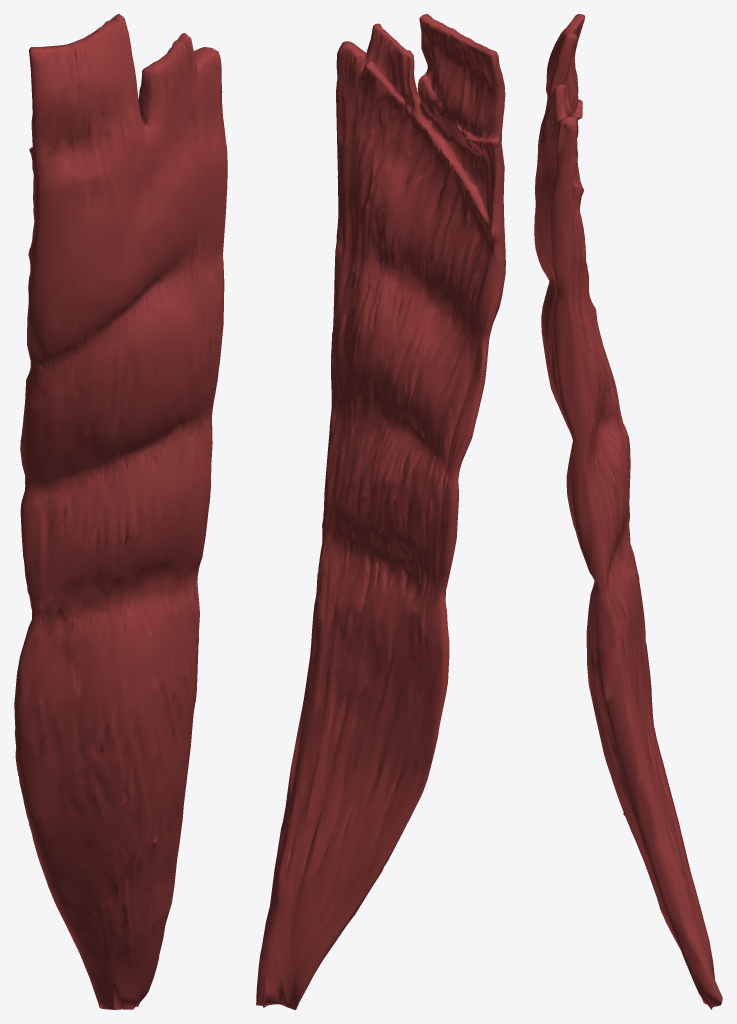
Rendered from rectus-abdominis-muscle-r.glb.
3 renders of one model, left to right at view 1: azimuth 30°, elevation 25°; view 2: azimuth 150°, elevation 25°; view 3: azimuth 270°, elevation 25°, orthographic. The views are drawn at different scales.
Visible parts, largest first — view 1: Rectus abdominis muscle.r; view 2: Rectus abdominis muscle.r; view 3: Rectus abdominis muscle.r.
Boxes of the visible parts, x1,y1,x2,y2 form: Rectus abdominis muscle.r: (14,14,227,1009); Rectus abdominis muscle.r: (256,14,505,1009); Rectus abdominis muscle.r: (534,14,722,1009).
Size of the model in its own units: 0.0786 by 0.4085 by 0.0746.
